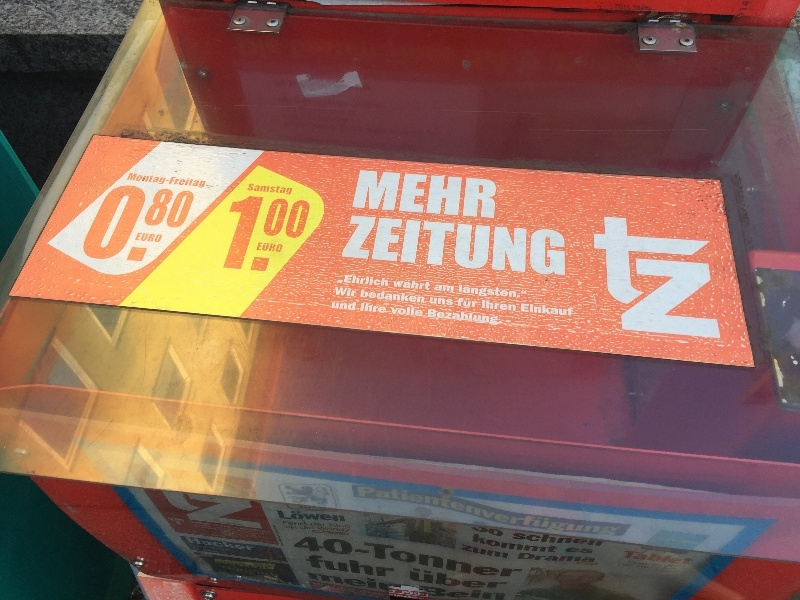text: (593, 214, 608, 341), (609, 214, 624, 341), (625, 214, 640, 341), (641, 214, 656, 341), (657, 214, 672, 341), (673, 214, 688, 341), (689, 214, 704, 341), (705, 214, 720, 341), (113, 185, 128, 295), (129, 185, 144, 295), (145, 185, 160, 295), (161, 185, 176, 295), (177, 185, 192, 295), (193, 185, 208, 295), (241, 193, 256, 275), (257, 193, 272, 275), (273, 193, 288, 275), (289, 193, 304, 275), (353, 215, 368, 280), (369, 215, 384, 280), (385, 215, 400, 280), (401, 215, 416, 280), (417, 215, 432, 280), (433, 215, 448, 280), (449, 215, 464, 280), (465, 215, 480, 280), (481, 215, 496, 280), (497, 215, 512, 280), (513, 215, 528, 280), (529, 215, 544, 280), (545, 215, 560, 280), (369, 484, 384, 544), (385, 484, 400, 544), (401, 484, 416, 544), (417, 484, 432, 544), (433, 484, 448, 544), (449, 484, 464, 544), (465, 484, 480, 544), (481, 484, 496, 544), (497, 484, 512, 544), (513, 484, 528, 544), (529, 484, 544, 544), (545, 484, 560, 544), (561, 484, 576, 544), (577, 484, 592, 544), (593, 484, 608, 544), (161, 492, 176, 548), (177, 492, 192, 548), (193, 492, 208, 548), (209, 492, 224, 548), (225, 492, 240, 548), (241, 492, 256, 548), (257, 492, 272, 548), (609, 484, 622, 544), (369, 170, 384, 221), (385, 170, 400, 221), (401, 170, 416, 221), (417, 170, 432, 221), (433, 170, 448, 221), (449, 170, 464, 221), (465, 170, 480, 221), (481, 170, 496, 221), (273, 492, 286, 548), (356, 484, 368, 544), (305, 193, 313, 275), (369, 541, 384, 581), (385, 541, 400, 581), (401, 541, 416, 581), (417, 541, 432, 581), (433, 541, 448, 581), (449, 541, 464, 581), (465, 541, 480, 581), (481, 541, 496, 581), (497, 541, 512, 581), (233, 193, 240, 275), (561, 215, 569, 280), (358, 170, 368, 221), (305, 573, 320, 600), (321, 573, 336, 600), (337, 573, 352, 600), (353, 573, 368, 600), (369, 573, 384, 600), (385, 573, 400, 600), (401, 573, 416, 600), (417, 573, 432, 600), (433, 573, 448, 600), (449, 573, 464, 600), (465, 573, 480, 600), (481, 573, 496, 600), (417, 566, 432, 593), (433, 566, 448, 593), (449, 566, 464, 593), (465, 566, 480, 593), (481, 566, 496, 593), (513, 541, 523, 581), (305, 553, 320, 579), (321, 553, 336, 579), (337, 553, 352, 579), (353, 553, 368, 579), (369, 553, 384, 579), (497, 566, 510, 593), (385, 553, 398, 579), (109, 185, 112, 295), (481, 534, 496, 556), (497, 534, 512, 556), (513, 534, 528, 556), (529, 534, 544, 556), (305, 536, 320, 556), (321, 536, 336, 556), (337, 536, 352, 556), (481, 518, 496, 538), (545, 534, 558, 556), (225, 560, 240, 579), (241, 560, 256, 579), (257, 560, 272, 579), (513, 285, 529, 302), (433, 309, 448, 327), (449, 309, 464, 327), (465, 309, 480, 327), (481, 309, 496, 327), (465, 285, 480, 302), (481, 285, 496, 302), (497, 285, 512, 302), (465, 544, 480, 561), (481, 544, 496, 561), (407, 566, 416, 593), (212, 560, 224, 579), (337, 274, 352, 289), (353, 274, 368, 289), (369, 274, 384, 289), (257, 182, 272, 197), (273, 182, 288, 197), (193, 537, 208, 552), (209, 537, 224, 552), (225, 537, 240, 552), (625, 551, 640, 566), (641, 551, 656, 566), (657, 551, 672, 566), (673, 551, 688, 566), (497, 573, 505, 600), (369, 289, 384, 303), (385, 289, 400, 303), (401, 289, 416, 303), (529, 303, 544, 317), (545, 303, 560, 317), (241, 537, 255, 552), (497, 544, 509, 561), (363, 541, 368, 581), (561, 303, 575, 317), (349, 215, 352, 280), (401, 279, 416, 291), (481, 300, 496, 312), (497, 300, 512, 312), (401, 306, 416, 318), (145, 173, 160, 185), (177, 177, 192, 189), (289, 511, 304, 523), (305, 511, 320, 523), (321, 511, 336, 523), (497, 518, 506, 538), (529, 552, 544, 564), (545, 552, 560, 564), (561, 552, 576, 564), (577, 552, 592, 564), (641, 561, 656, 573), (657, 561, 672, 573), (417, 279, 431, 291), (258, 243, 272, 255), (130, 173, 144, 185), (337, 287, 352, 298), (337, 301, 352, 312), (369, 303, 384, 314), (145, 233, 160, 244), (472, 518, 480, 538), (193, 177, 206, 189), (465, 298, 479, 309), (577, 546, 592, 556), (273, 243, 285, 255), (276, 511, 288, 523), (628, 561, 640, 573), (273, 560, 280, 579), (474, 534, 480, 556), (721, 214, 722, 341), (434, 284, 448, 293), (417, 289, 426, 303), (433, 298, 448, 306), (390, 306, 400, 318), (158, 492, 160, 548), (565, 546, 576, 556), (337, 511, 346, 523), (519, 552, 528, 564), (249, 182, 256, 197), (185, 537, 192, 552), (521, 303, 528, 317), (289, 521, 304, 527), (321, 527, 336, 533), (459, 285, 464, 302), (393, 279, 400, 291), (362, 289, 368, 303), (417, 306, 424, 318), (337, 523, 351, 529), (337, 527, 351, 533), (361, 303, 368, 314), (385, 274, 390, 289), (689, 551, 694, 566), (321, 531, 336, 536), (428, 309, 432, 327), (354, 550, 368, 555), (458, 298, 464, 309), (138, 233, 144, 244), (309, 521, 320, 527), (337, 531, 350, 536), (289, 182, 293, 197), (161, 173, 166, 185), (673, 561, 678, 573), (353, 287, 358, 298), (449, 284, 455, 293), (497, 170, 498, 221), (449, 298, 455, 306), (172, 177, 176, 189), (328, 523, 336, 529), (332, 301, 336, 312), (353, 301, 357, 312), (353, 536, 355, 556), (305, 526, 315, 530), (513, 300, 516, 312), (497, 309, 499, 327), (593, 552, 596, 564), (282, 521, 288, 527), (321, 521, 327, 527), (289, 526, 298, 530), (313, 531, 320, 536), (161, 233, 164, 244), (385, 303, 387, 314), (593, 546, 595, 556), (317, 527, 320, 533), (463, 544, 464, 561), (430, 298, 432, 306), (300, 526, 304, 530), (305, 521, 307, 527), (285, 526, 288, 530), (335, 287, 336, 298), (166, 181, 176, 182)
